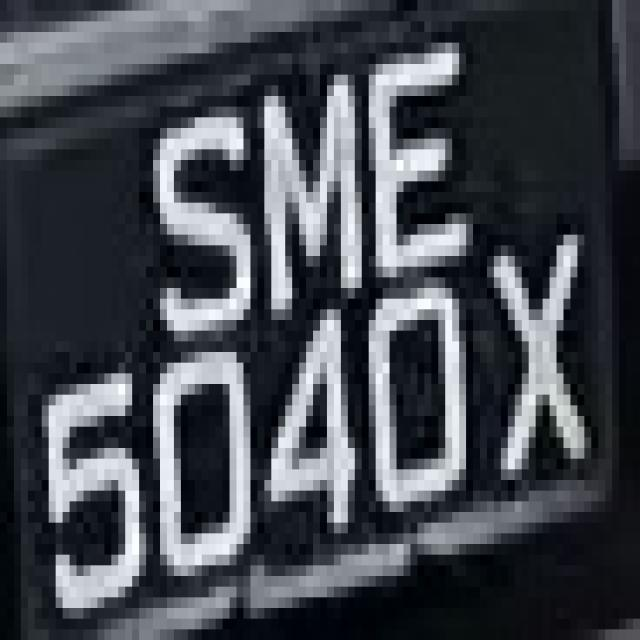0: (362, 267, 480, 544), (139, 330, 258, 586)
4: (230, 320, 368, 533)
5: (35, 342, 146, 630)
E: (362, 21, 466, 299)
M: (250, 64, 362, 320)
S: (139, 53, 258, 384)
X: (459, 213, 612, 523)
